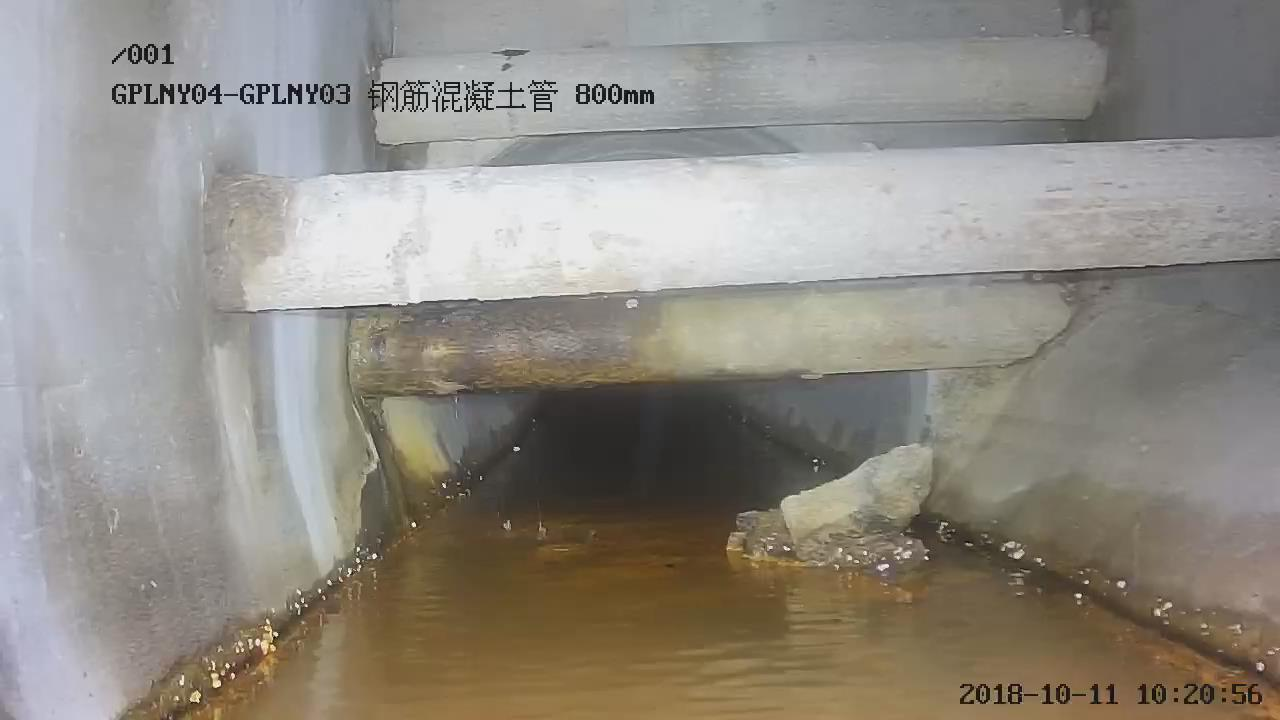YWCR: (204, 31, 1279, 394)
